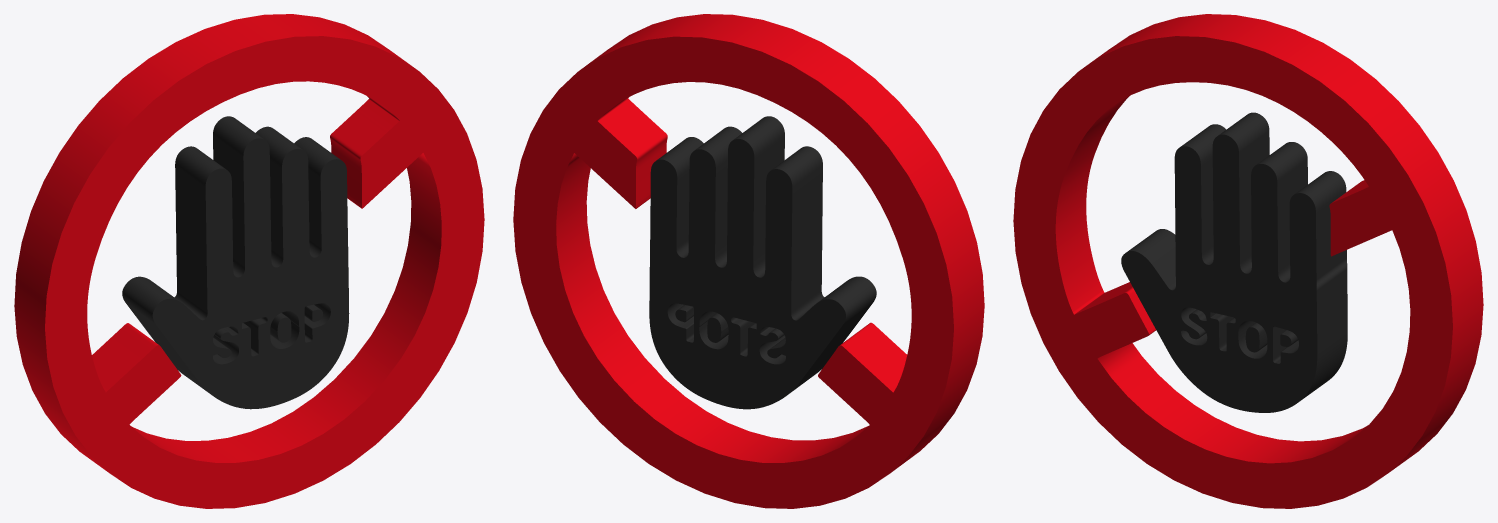
The model's file is Sign2.glb.
The picture shows the model from 3 angles, left to right: view 1: azimuth 30°, elevation 25°; view 2: azimuth 150°, elevation 25°; view 3: azimuth 330°, elevation 25°; orthographic projection.
Parts seen in each view (by area): view 1: Curve.001, Curve.002; view 2: Curve.001, Curve.002; view 3: Curve.001, Curve.002.
Part boxes in pixels (left/top/right/bottom): Curve.001: left=14, top=14, right=484, bottom=508; Curve.002: left=122, top=116, right=349, bottom=409; Curve.001: left=513, top=14, right=984, bottom=508; Curve.002: left=649, top=116, right=876, bottom=409; Curve.001: left=1013, top=14, right=1483, bottom=508; Curve.002: left=1121, top=112, right=1347, bottom=412.
Size of the model in its own units: 5.06 by 5.06 by 0.6338.
